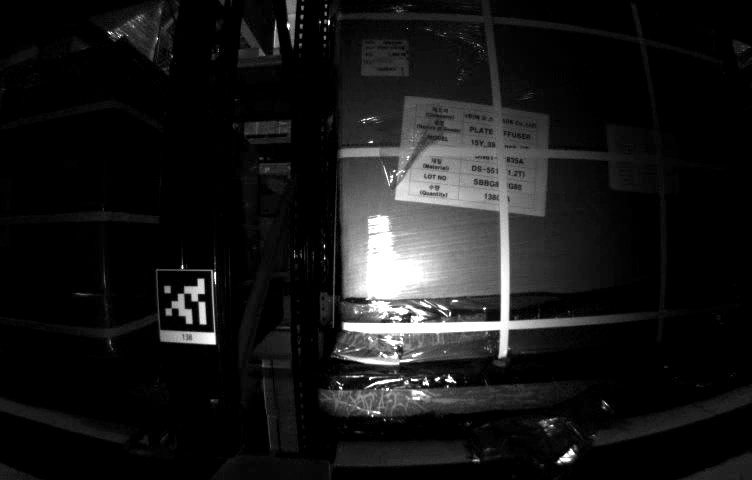True Barcode: (363, 39, 408, 76)
